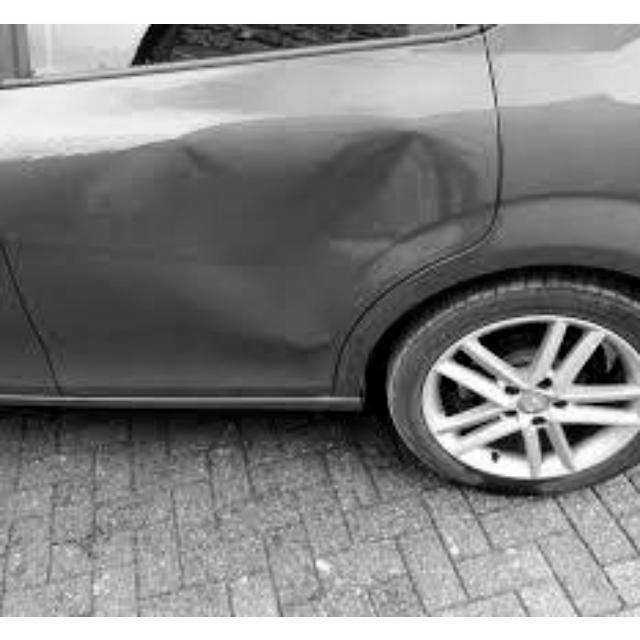doorouter-dent: (1, 67, 462, 399)
